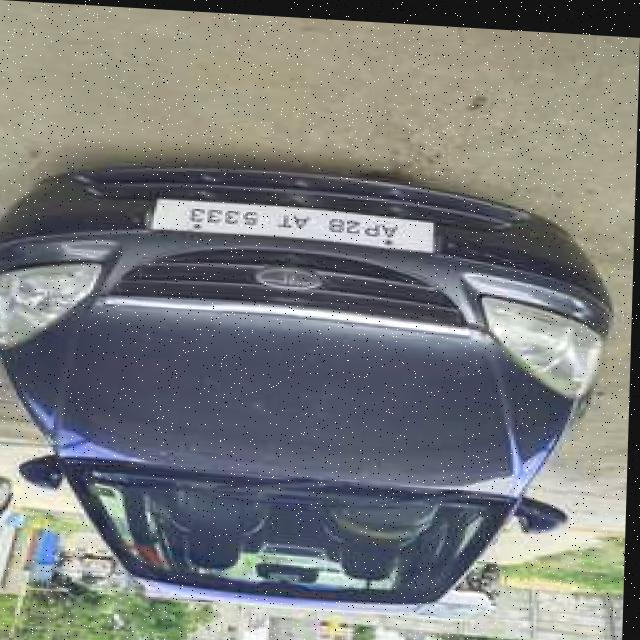plate: (153, 197, 436, 250)
